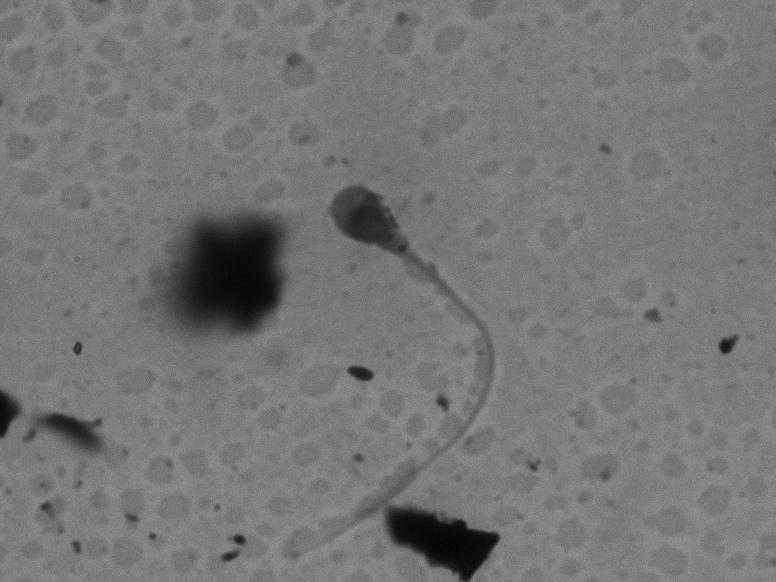Abnormal: (265, 164, 543, 571)
